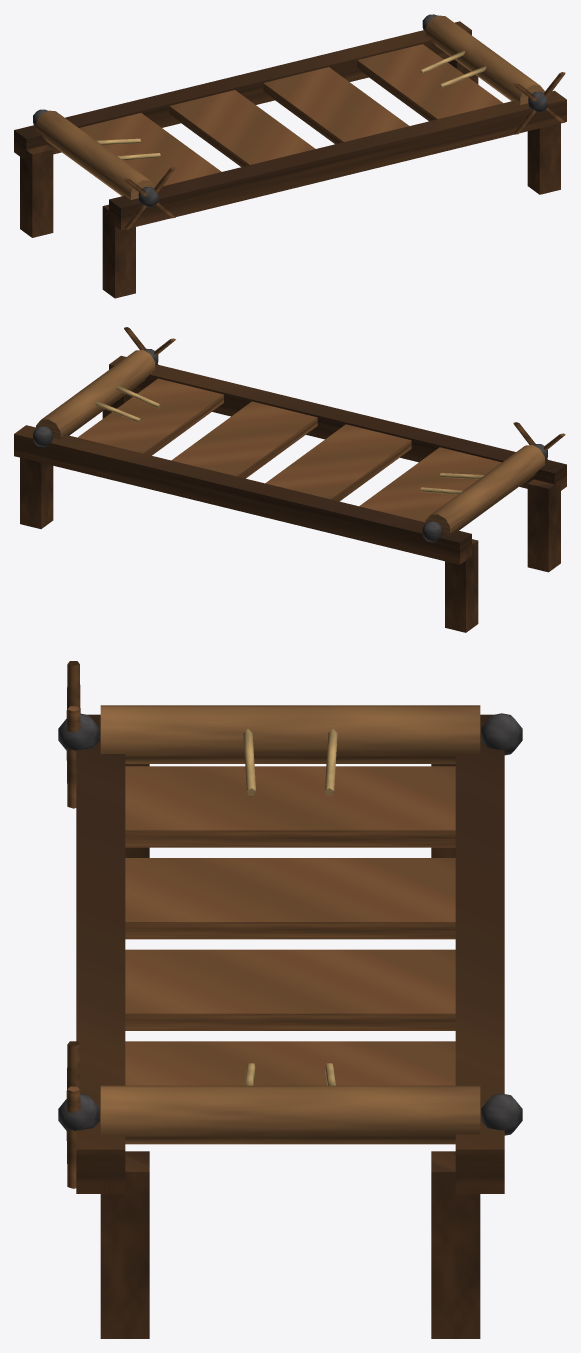
The model's file is rack.obj.
3 renders of one model, top to bottom at view 1: azimuth 30°, elevation 25°; view 2: azimuth 150°, elevation 25°; view 3: azimuth 270°, elevation 25°, orthographic. The views are drawn at different scales.
Size of the model in its own units: 19 by 4.99 by 8.56.
Materials: 1 (1 with a texture image).
